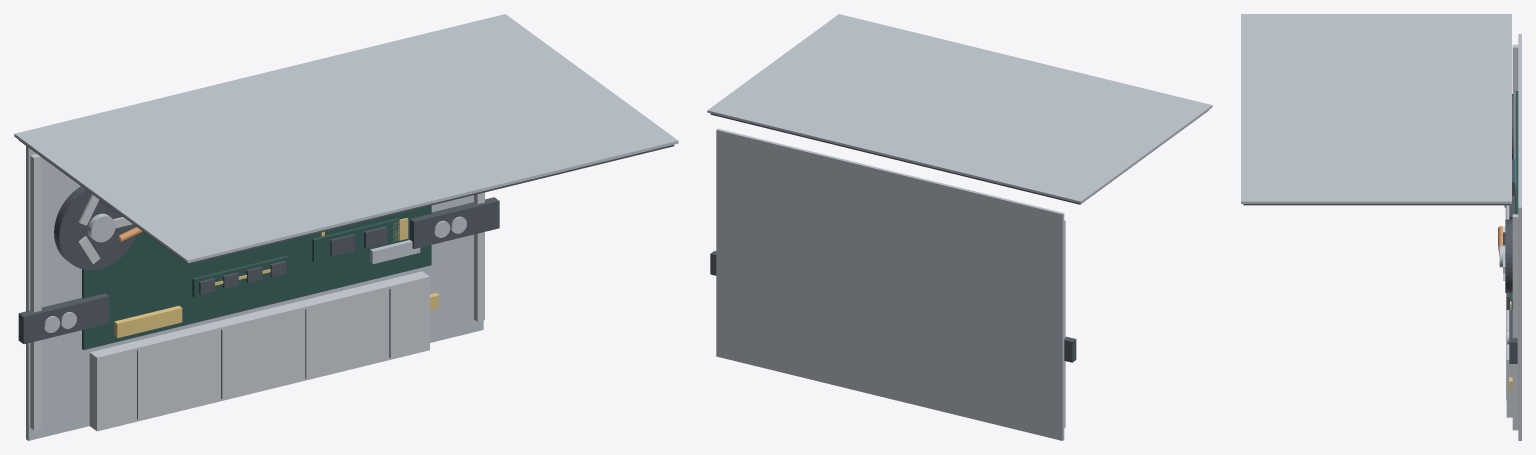
The model's file is lumina-internals-assembled.glb.
The picture shows the model from 3 angles, left to right: view 1: azimuth 30°, elevation 25°; view 2: azimuth 150°, elevation 25°; view 3: azimuth 270°, elevation 25°; orthographic projection. The views are drawn at different scales.
Visible parts, largest first — view 1: Display_Backplate_Illustrative, Battery_Main_Case, Motherboard_PCB, Internal_Frame_Plate, Cooling_Fan_Left_Housing, Internal_Frame_Rib_Left, Speaker_Left_Housing, Speaker_Right_Housing, SSD_PCB, Display_Panel_Illustrative, Motherboard_Connector_Block, RAM_PCB (+3 smaller); view 2: Internal_Frame_Plate, Display_Backplate_Illustrative, Display_Panel_Illustrative; view 3: Display_Backplate_Illustrative, Internal_Frame_Plate, Internal_Frame_Rib_Right, Cooling_Fan_Right_Housing, Display_Panel_Illustrative, Internal_Frame_Rib_Left, Battery_Main_Case, Motherboard_PCB, Speaker_Right_Housing.
Part boxes in pixels (x1,y1,x2,y2): Display_Backplate_Illustrative: (14,14,678,263); Battery_Main_Case: (89,271,429,431); Motherboard_PCB: (82,205,431,349); Internal_Frame_Plate: (26,146,483,440); Cooling_Fan_Left_Housing: (54,186,136,270); Internal_Frame_Rib_Left: (30,154,41,429); Speaker_Left_Housing: (18,293,109,344); Speaker_Right_Housing: (410,197,499,248); SSD_PCB: (312,218,399,262); Display_Panel_Illustrative: (19,140,674,264); Motherboard_Connector_Block: (114,306,182,338); RAM_PCB: (192,255,289,297); Internal_Frame_Plate: (716,128,1064,440); Display_Backplate_Illustrative: (707,14,1212,203); Display_Panel_Illustrative: (710,110,1208,204); Display_Backplate_Illustrative: (1241,14,1511,203); Internal_Frame_Plate: (1518,34,1521,440); Internal_Frame_Rib_Right: (1512,214,1518,430); Cooling_Fan_Right_Housing: (1505,219,1512,292); Display_Panel_Illustrative: (1243,204,1509,205); Internal_Frame_Rib_Left: (1512,44,1518,159); Battery_Main_Case: (1506,310,1512,417); Motherboard_PCB: (1515,91,1518,214); Speaker_Right_Housing: (1509,310,1517,363).
Size of the model in its own units: 6.42 by 3.93 by 4.06.
